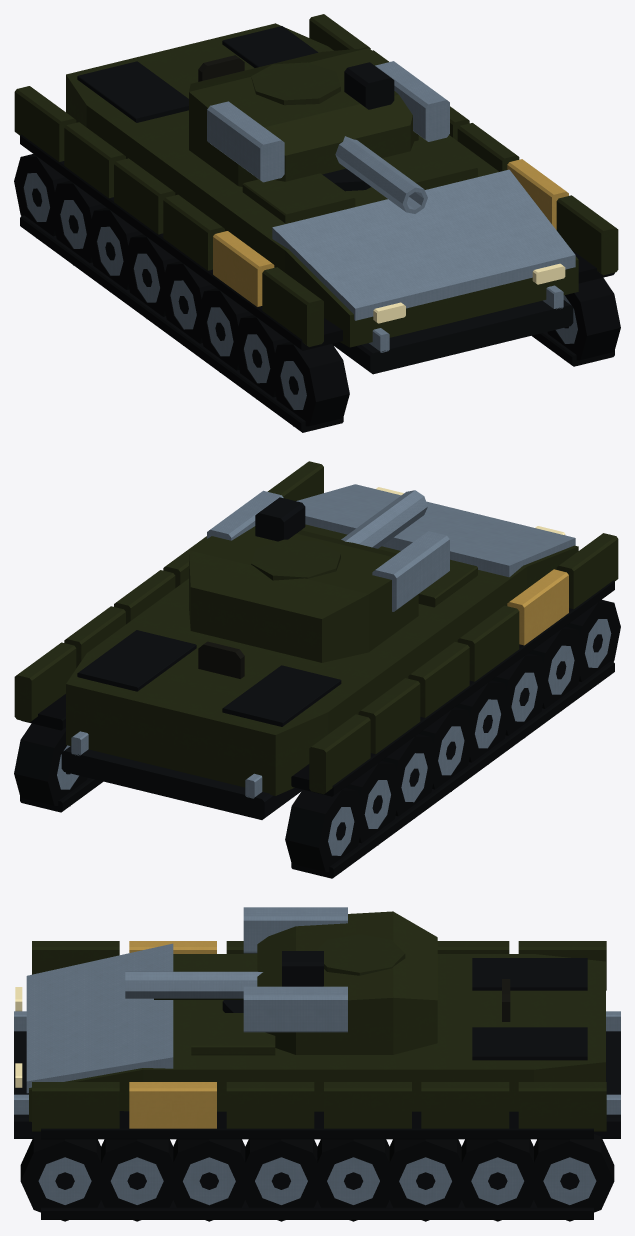
The model's file is titan-lod2.glb.
3 views of the same model, one above another, from view 1: azimuth 30°, elevation 25°; view 2: azimuth 150°, elevation 25°; view 3: azimuth 270°, elevation 25° (orthographic).
Visible parts, largest first — view 1: body, turret, wheel_7, wheel_15, wheel_0, wheel_4, wheel_5, wheel_6, wheel_1, wheel_3, wheel_2; view 2: body, turret, wheel_0, wheel_8, wheel_5, wheel_2, wheel_3, wheel_7, wheel_1, wheel_6, wheel_4; view 3: body, turret, wheel_8, wheel_15, wheel_10, wheel_13, wheel_11, wheel_14, wheel_12, wheel_9.
Part boxes in pixels (x1,y1,x2,y2): body: [14, 14, 618, 432]; turret: [189, 48, 449, 213]; wheel_7: [271, 342, 349, 426]; wheel_15: [547, 277, 620, 360]; wheel_0: [14, 154, 69, 238]; wheel_4: [160, 261, 216, 343]; wheel_5: [197, 288, 252, 370]; wheel_6: [235, 315, 289, 397]; wheel_1: [51, 181, 106, 265]; wheel_3: [126, 234, 179, 316]; wheel_2: [91, 207, 142, 289]; body: [14, 461, 618, 878]; turret: [189, 490, 449, 662]; wheel_0: [285, 787, 363, 872]; wheel_8: [14, 723, 87, 806]; wheel_5: [492, 653, 547, 738]; wheel_2: [382, 734, 437, 816]; wheel_3: [418, 707, 474, 791]; wheel_7: [565, 599, 620, 681]; wheel_1: [345, 761, 400, 845]; wheel_6: [528, 626, 584, 708]; wheel_4: [455, 680, 508, 764]; body: [14, 941, 620, 1219]; turret: [125, 907, 437, 1054]; wheel_8: [525, 1134, 614, 1221]; wheel_15: [20, 1134, 108, 1221]; wheel_10: [381, 1139, 469, 1221]; wheel_13: [165, 1139, 252, 1221]; wheel_11: [309, 1139, 397, 1221]; wheel_14: [92, 1139, 181, 1221]; wheel_12: [237, 1139, 325, 1221]; wheel_9: [454, 1139, 542, 1221].
Bounding box in the file's own units: 2.96 × 1.96 × 5.05.
7 materials, 6 textured.
